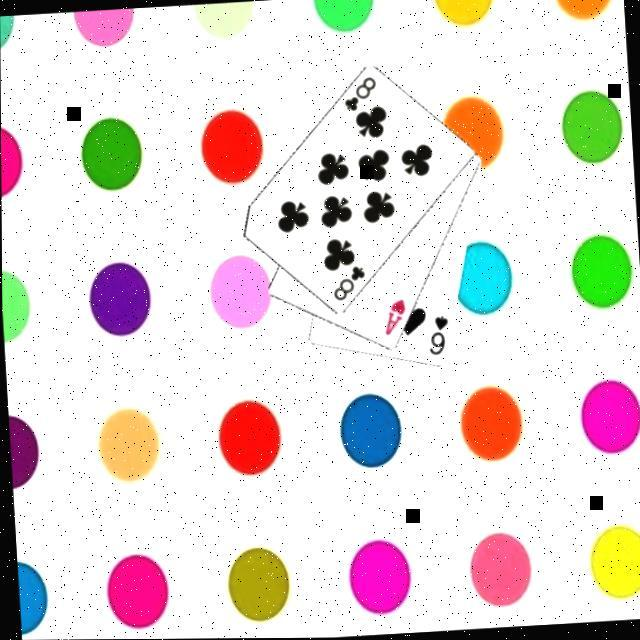6S: (425, 312, 453, 358)
8C: (329, 262, 369, 304), (340, 72, 380, 114)
AH: (380, 295, 410, 338)
